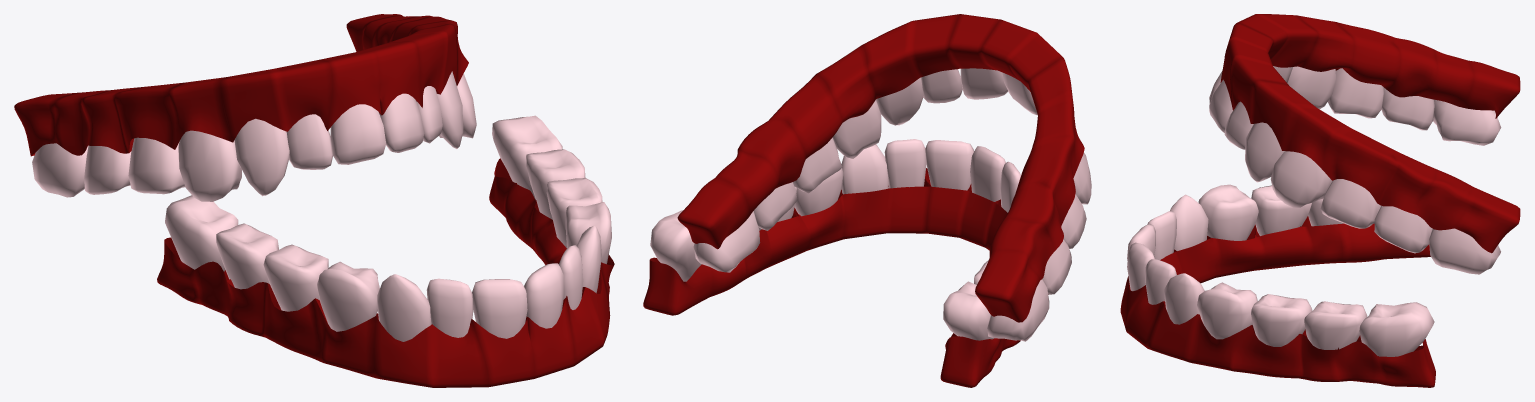
Rendered from teeth-open.obj.
3 views of the same model, side by side, from view 1: azimuth 30°, elevation 25°; view 2: azimuth 150°, elevation 25°; view 3: azimuth 270°, elevation 25° (orthographic). The views are drawn at different scales.
Parts seen in each view (by area): view 1: LowerJaw_Cube.001, UpperJaw_Cube.002; view 2: UpperJaw_Cube.002, LowerJaw_Cube.001; view 3: UpperJaw_Cube.002, LowerJaw_Cube.001.
Part boxes in pixels (<box>): LowerJaw_Cube.001: <box>157,115,614,387</box>; UpperJaw_Cube.002: <box>14,14,476,201</box>; UpperJaw_Cube.002: <box>677,14,1091,341</box>; LowerJaw_Cube.001: <box>643,139,1020,387</box>; UpperJaw_Cube.002: <box>1209,14,1520,274</box>; LowerJaw_Cube.001: <box>1120,184,1435,387</box>.
Size of the model in its own units: 1.69 by 1.05 by 1.56.
